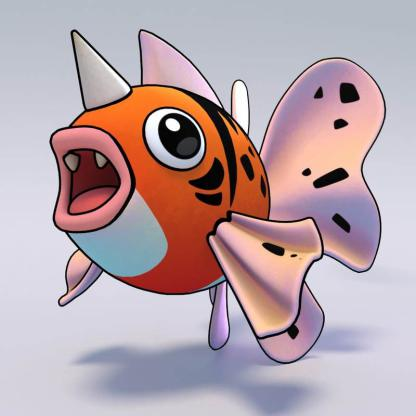Seaking: (58, 17, 378, 366)
